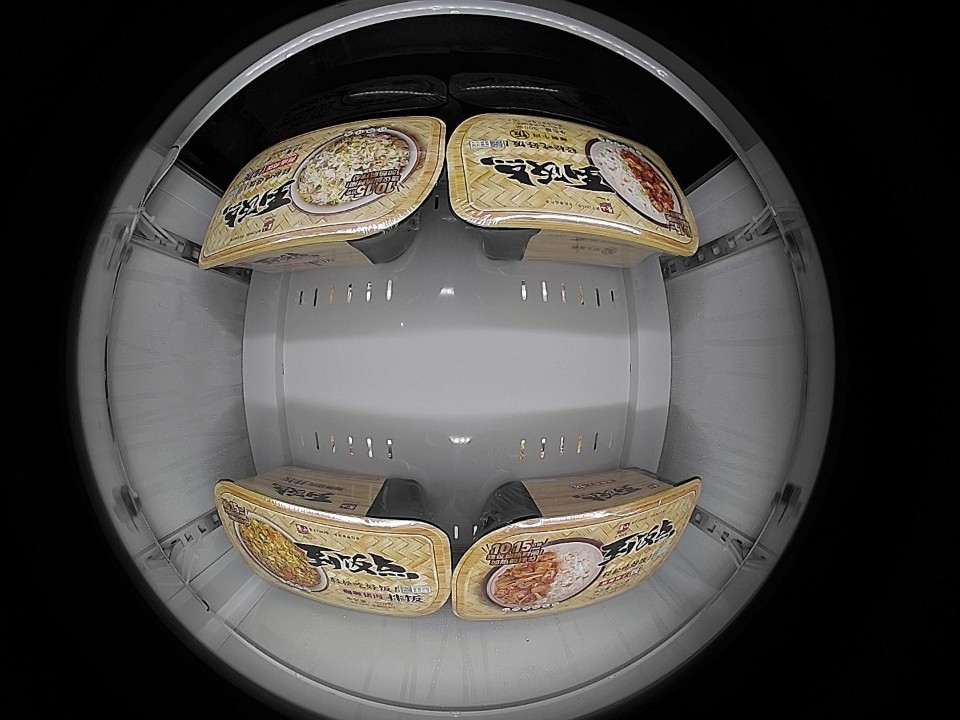daofandian1: (201, 115, 447, 271)
daofandian2: (446, 112, 699, 265)
daofandian3: (216, 472, 452, 616)
daofandian4: (451, 473, 699, 620)
